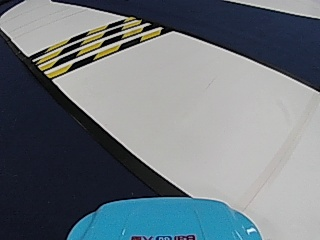bump: (41, 21, 135, 74)
